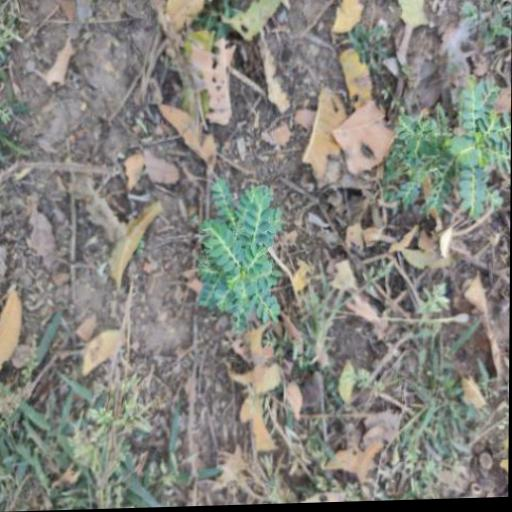weed: (373, 72, 511, 256), (186, 177, 296, 351), (52, 377, 163, 482)
